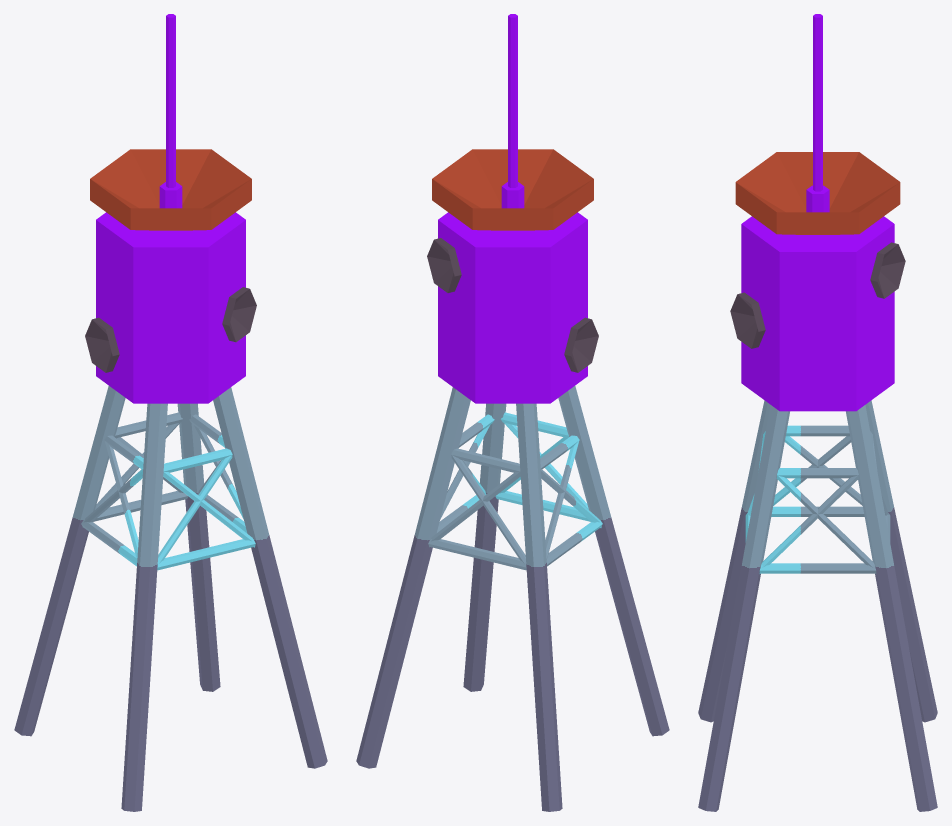
File: TowerPurpleModel.glb
The picture shows the model from 3 angles, left to right: view 1: azimuth 30°, elevation 25°; view 2: azimuth 150°, elevation 25°; view 3: azimuth 270°, elevation 25°; orthographic projection. The views are drawn at different scales.
Visible parts, largest first — view 1: Cylinder.001; view 2: Cylinder.001; view 3: Cylinder.001.
Part boxes in pixels (x1=…): Cylinder.001: x1=14, y1=14, x2=327, y2=811; Cylinder.001: x1=356, y1=14, x2=669, y2=811; Cylinder.001: x1=698, y1=14, x2=937, y2=811.
Bounding box in the file's own units: 4.37 × 15.08 × 4.37.
Materials: 1 (1 with a texture image).
